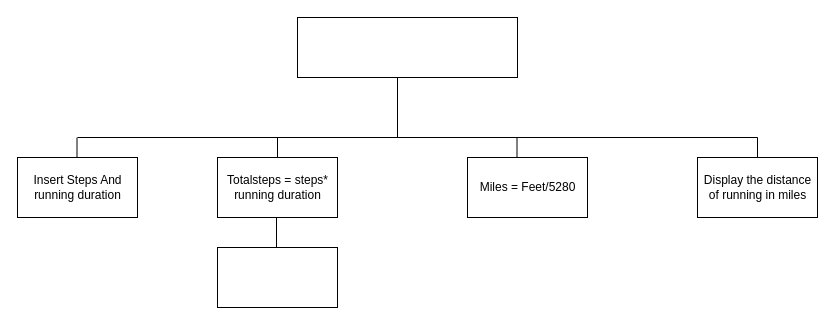
Image size: 835x325. Some labels were removed from this diagram. Each missing label, with the centre of its shape:
Feet = TotalSteps* 2.5: the point at 277,277
Finding how many miles users run: the point at 407,47
